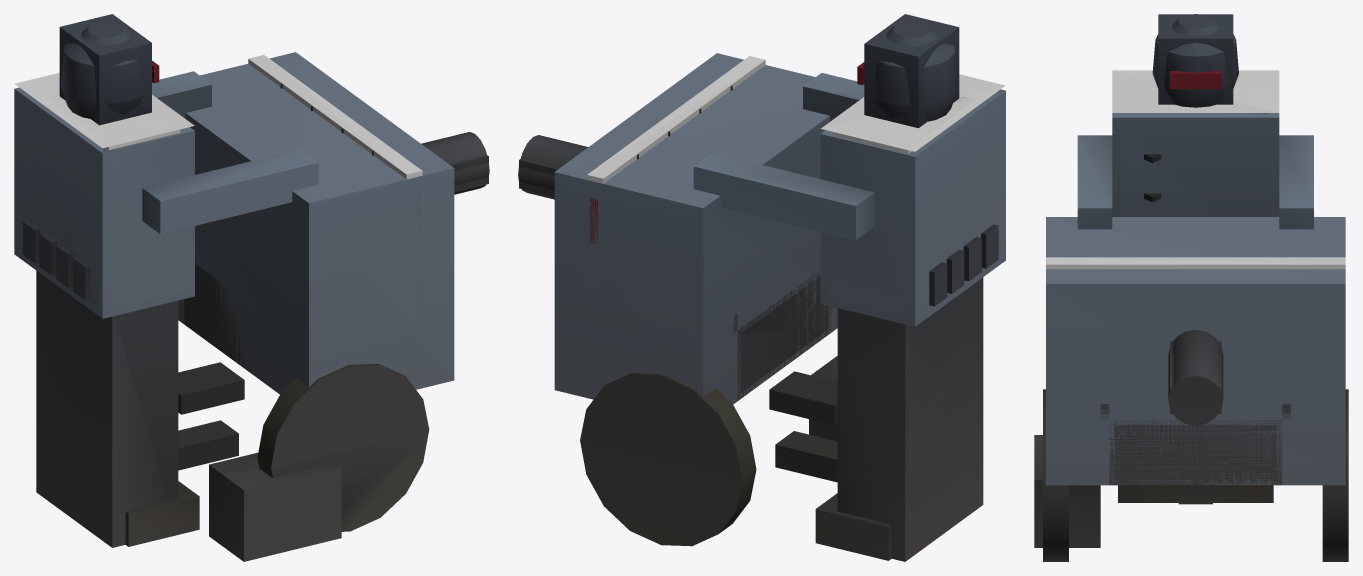
Rendered from veyran_heavy_gun_team.glb.
3 views of the same model, side by side, from view 1: azimuth 30°, elevation 25°; view 2: azimuth 150°, elevation 25°; view 3: azimuth 270°, elevation 25° (orthographic). The views are drawn at different scales.
Parts seen in each view (by area): view 1: gun (×3), torso (×3), leg_l (×2), head (×2), arm_l, leg_r, arm_r; view 2: gun (×3), torso (×3), leg_r, leg_l (×2), head (×2), arm_r, arm_l; view 3: gun (×3), torso (×3), head (×2), arm_l, arm_r, leg_l, leg_r.
Part boxes in pixels (bbox=[...]): gun (×3): bbox=[178, 52, 489, 561]; torso (×3): bbox=[14, 72, 194, 318]; leg_l (×2): bbox=[36, 271, 199, 547]; head (×2): bbox=[59, 14, 159, 125]; arm_l: bbox=[142, 149, 318, 234]; leg_r: bbox=[36, 270, 63, 511]; arm_r: bbox=[152, 71, 211, 118]; gun (×3): bbox=[518, 53, 837, 546]; torso (×3): bbox=[820, 74, 1005, 326]; leg_r: bbox=[815, 308, 923, 561]; leg_l (×2): bbox=[905, 277, 983, 560]; head (×2): bbox=[857, 14, 959, 128]; arm_r: bbox=[693, 153, 874, 239]; arm_l: bbox=[803, 73, 864, 121]; gun (×3): bbox=[1034, 217, 1348, 561]; torso (×3): bbox=[1112, 70, 1279, 216]; head (×2): bbox=[1152, 14, 1238, 107]; arm_l: bbox=[1077, 135, 1112, 229]; arm_r: bbox=[1279, 135, 1313, 229]; leg_l: bbox=[1118, 485, 1178, 502]; leg_r: bbox=[1213, 485, 1273, 502].
Bounding box in the file's own units: 1.6 × 1.75 × 1.09.
